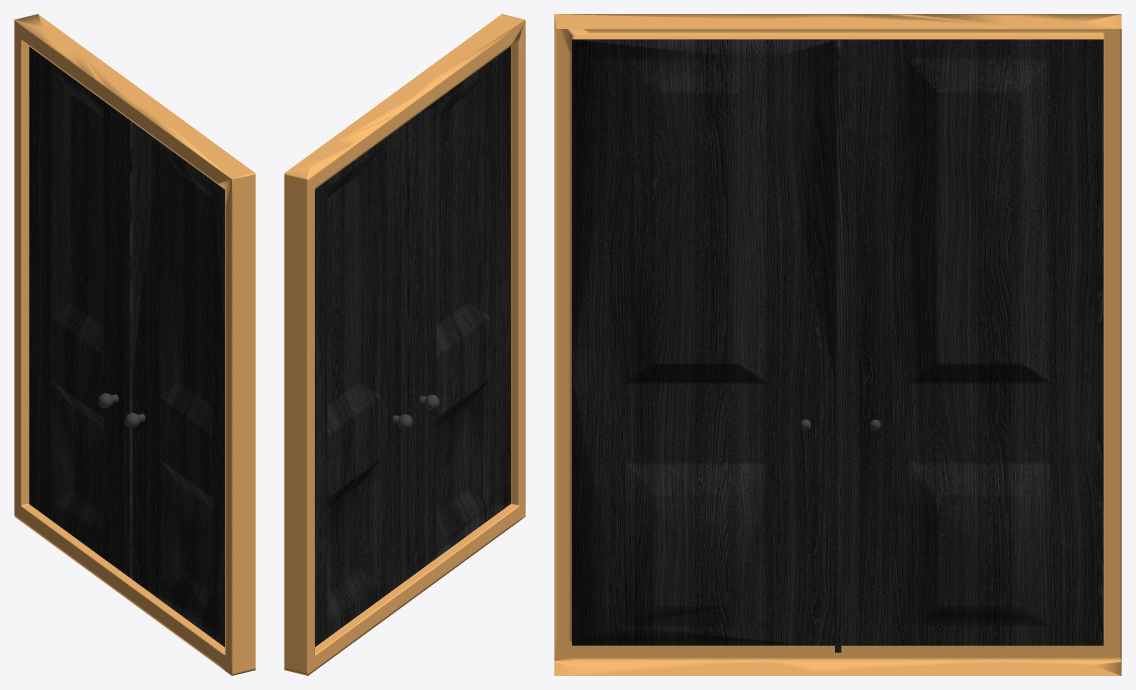
File: Doors LOW POLY.glb
3 renders of one model, left to right at view 1: azimuth 30°, elevation 25°; view 2: azimuth 150°, elevation 25°; view 3: azimuth 270°, elevation 25°, orthographic. The views are drawn at different scales.
Parts seen in each view (by area): view 1: Doors, Door knob; view 2: Doors, Door knob; view 3: Doors.
Boxes of the visible parts, left/top/right/bottom form: Doors: left=14, top=14, right=255, bottom=675; Door knob: left=98, top=393, right=145, bottom=427; Doors: left=284, top=14, right=525, bottom=675; Door knob: left=392, top=394, right=439, bottom=429; Doors: left=554, top=14, right=1121, bottom=675.
Bounding box in the file's own units: 0.2199 × 3.15 × 2.5.
Materials: 3 (1 with a texture image).
